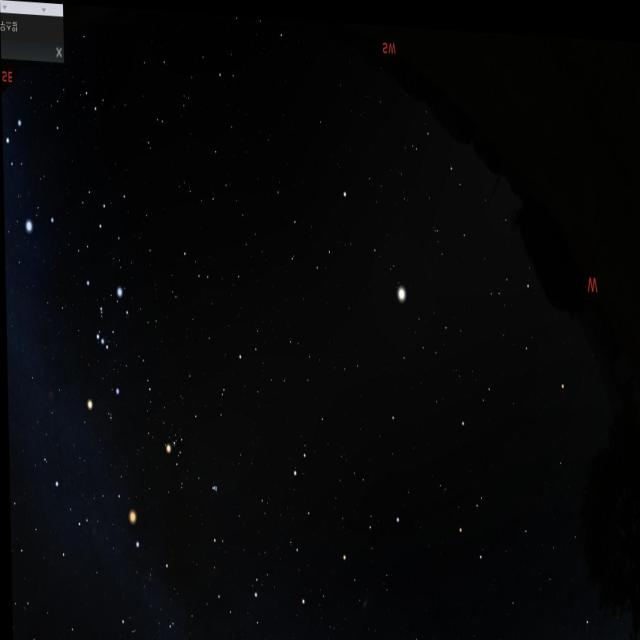canis_major: (2, 109, 61, 249)
gemini: (8, 499, 98, 640)
orion: (69, 259, 132, 419)
pleiades: (201, 470, 221, 499)
taurus: (156, 409, 228, 518)
